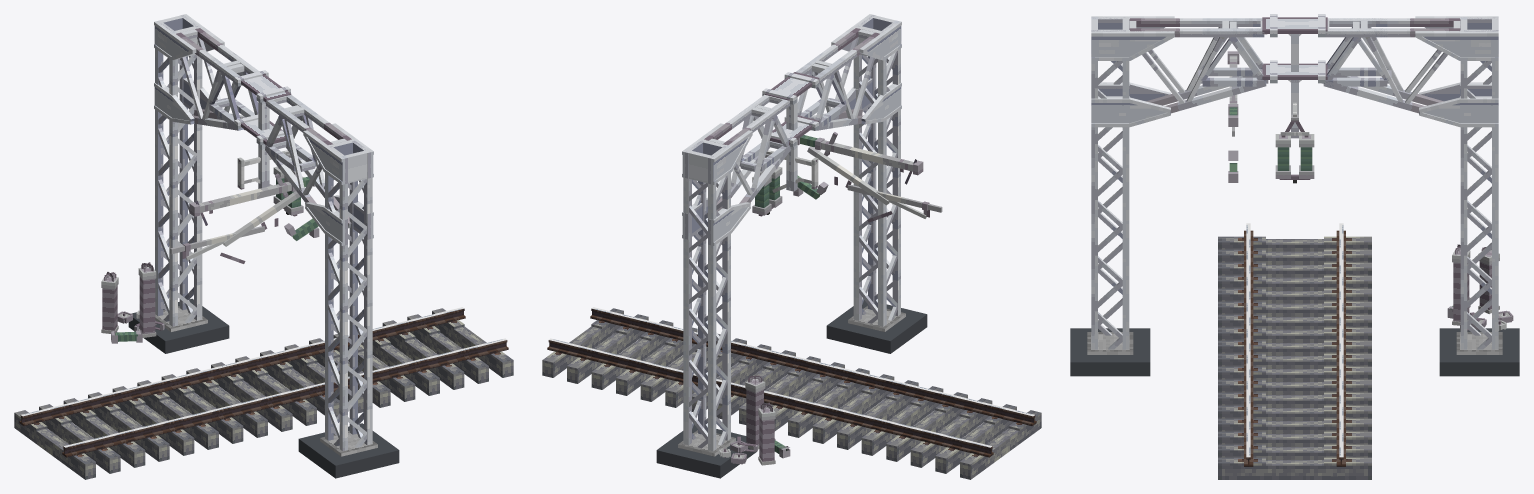
File: overhead_gantry.glb
3 views of the same model, side by side, from view 1: azimuth 30°, elevation 25°; view 2: azimuth 150°, elevation 25°; view 3: azimuth 270°, elevation 25° (orthographic). The views are drawn at different scales.
Parts seen in each view (by area): view 1: track_mesh, underbody_mesh, body_mesh, roof_mesh; view 2: track_mesh, underbody_mesh, body_mesh, roof_mesh; view 3: track_mesh, body_mesh, underbody_mesh, roof_mesh.
Boxes of the visible parts, x1,y1,x2,y2 form: track_mesh: (14, 298, 513, 479); underbody_mesh: (101, 14, 377, 456); body_mesh: (154, 14, 373, 245); roof_mesh: (170, 150, 319, 263); track_mesh: (542, 300, 1041, 479); underbody_mesh: (678, 14, 905, 465); body_mesh: (682, 14, 901, 245); roof_mesh: (752, 132, 942, 222); track_mesh: (1070, 223, 1519, 479); body_mesh: (1091, 14, 1498, 138); underbody_mesh: (1087, 16, 1513, 354); roof_mesh: (1227, 51, 1314, 183).
Bounding box in the file's own units: 9 × 6.18 × 7.3.
2 materials, 2 textured.
